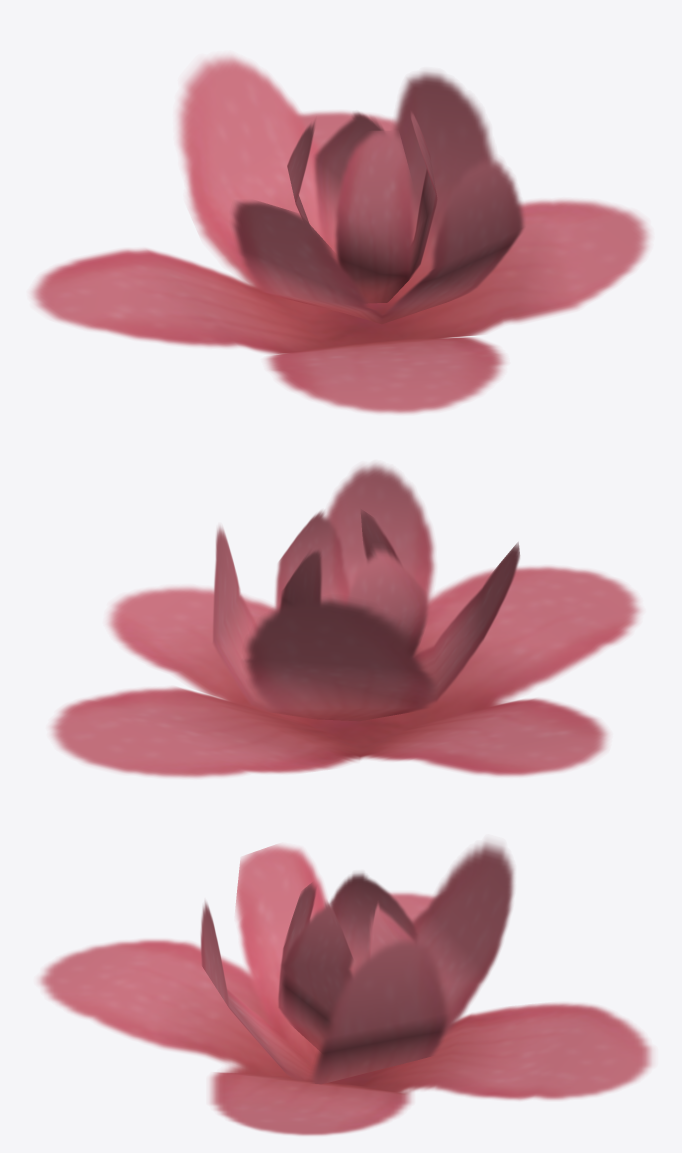
The model's file is PFlower2.glb.
The picture shows the model from 3 angles, top to bottom: view 1: azimuth 30°, elevation 25°; view 2: azimuth 150°, elevation 25°; view 3: azimuth 270°, elevation 25°; orthographic projection. The views are drawn at different scales.
Visible parts, largest first — view 1: PFlower2; view 2: PFlower2; view 3: PFlower2.
Part boxes in pixels (x1,y1,x2,y2): PFlower2: (30, 54, 650, 414); PFlower2: (49, 463, 641, 778); PFlower2: (38, 841, 652, 1135).
Size of the model in its own units: 1.29 by 0.5036 by 1.41.
Materials: 1 (1 with a texture image).
